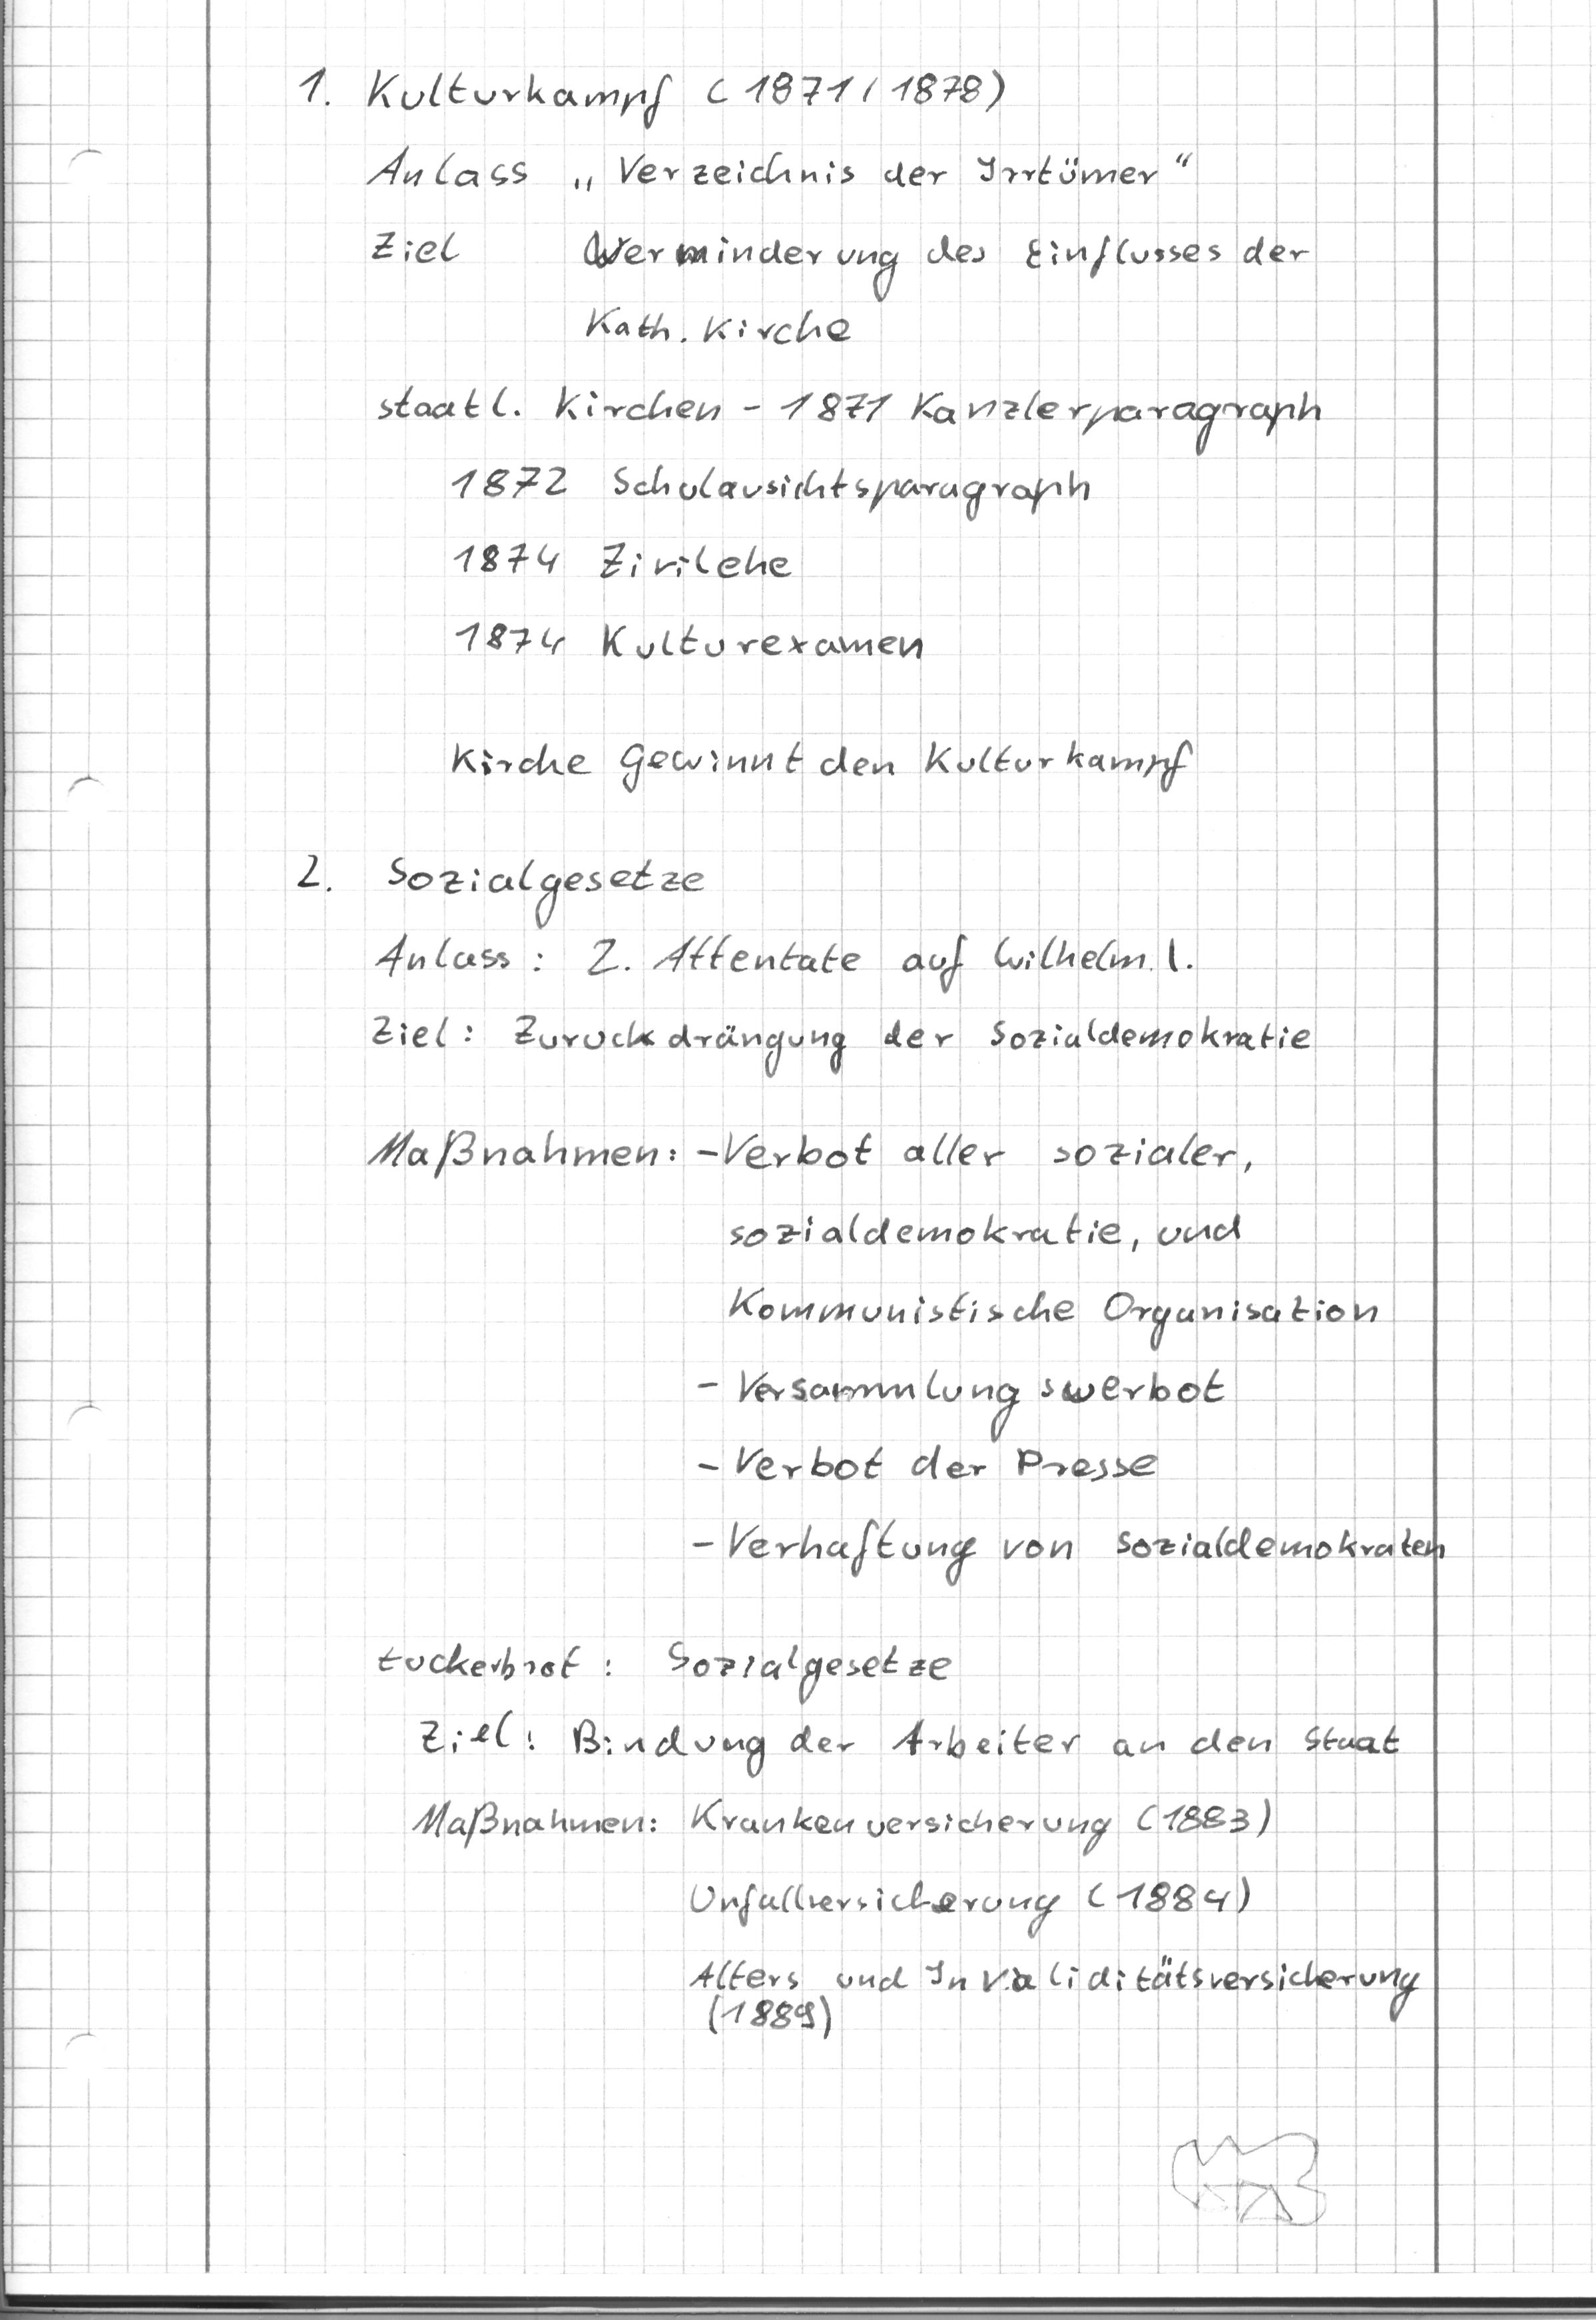word: (364, 372, 1332, 675), (362, 63, 1328, 362), (681, 1275, 1452, 1588), (360, 842, 1323, 1087), (677, 1779, 1426, 2057), (363, 1628, 1414, 1777), (353, 1103, 1269, 1267), (430, 712, 1211, 816), (386, 1781, 666, 1873)
